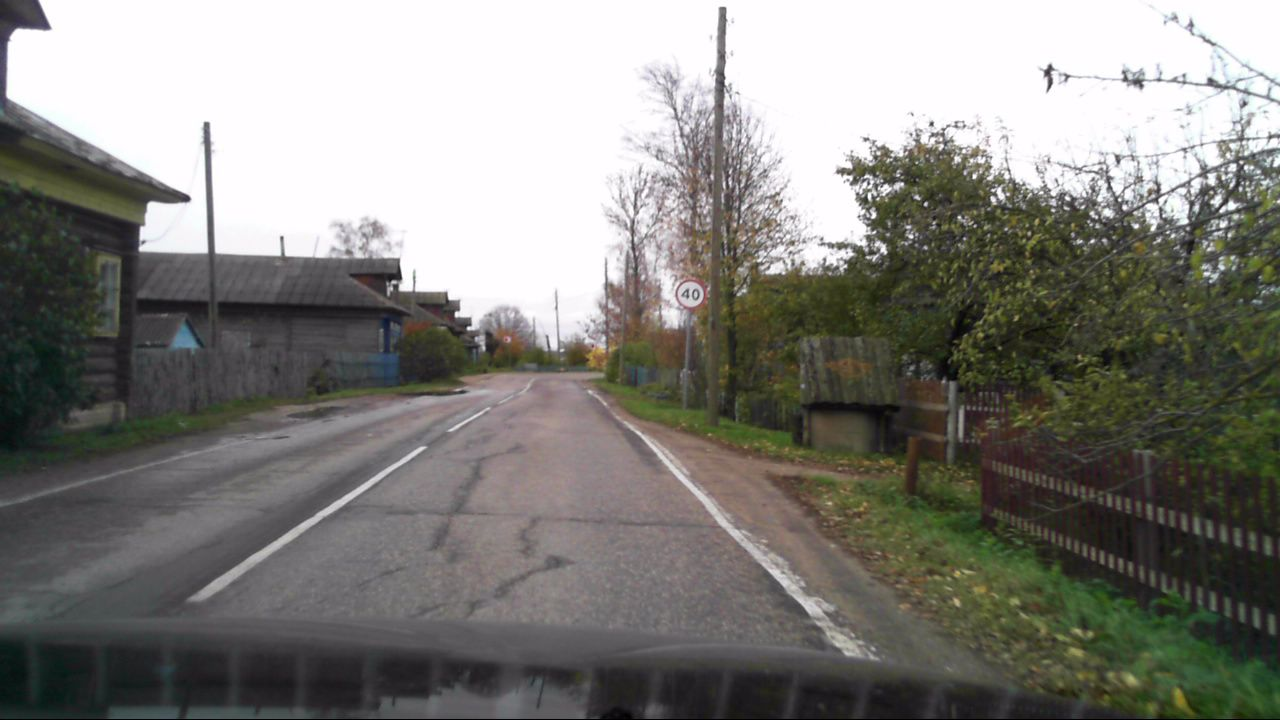speed_warning_40: (674, 278, 706, 310)
